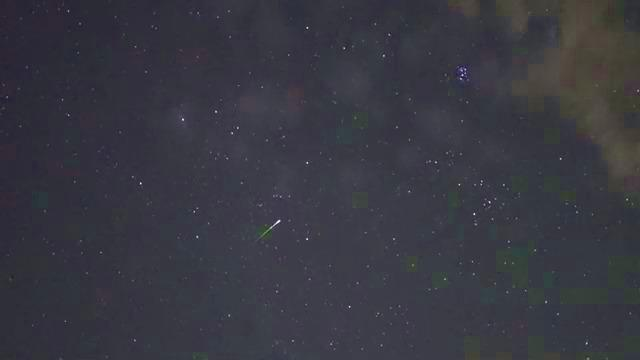meteorite: (237, 213, 297, 248)
